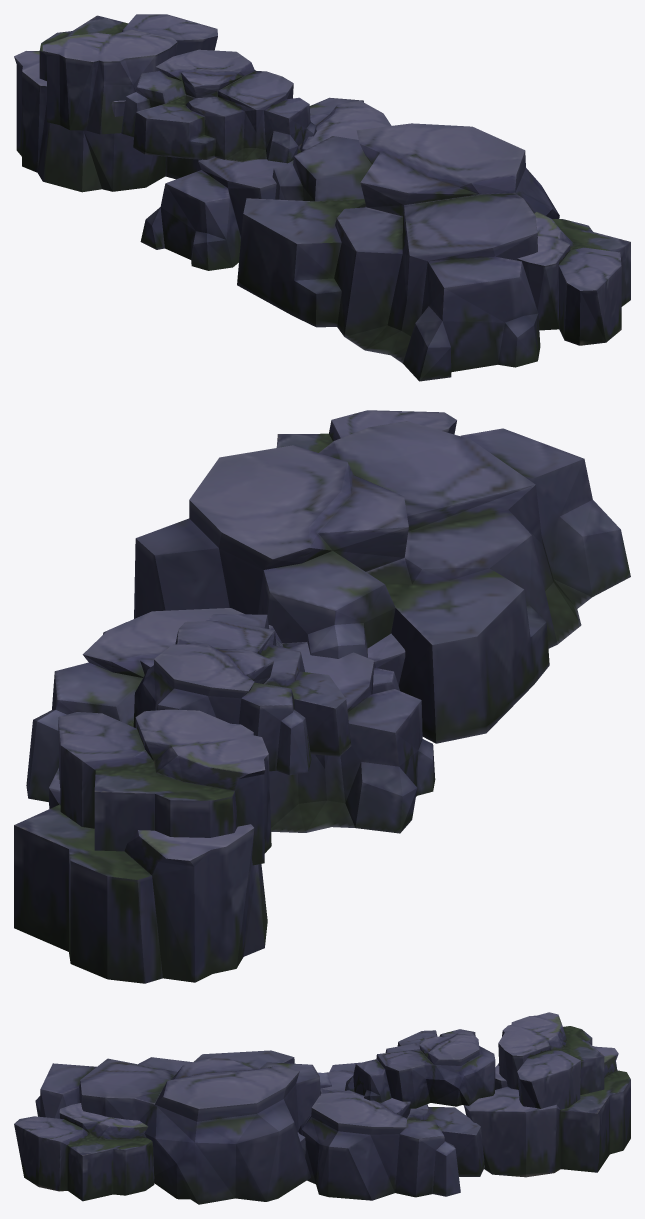
File: Area14_15.fbx
The picture shows the model from 3 angles, top to bottom: view 1: azimuth 30°, elevation 25°; view 2: azimuth 150°, elevation 25°; view 3: azimuth 270°, elevation 25°; orthographic projection. The views are drawn at different scales.
Visible parts, largest first — view 1: Area14_15; view 2: Area14_15; view 3: Area14_15.
Boxes of the visible parts, x1=… form: Area14_15: x1=14, y1=14, x2=630, y2=381; Area14_15: x1=14, y1=410, x2=630, y2=983; Area14_15: x1=14, y1=1012, x2=630, y2=1204.
Bounding box in the file's own units: 1660 × 751 × 3909.
